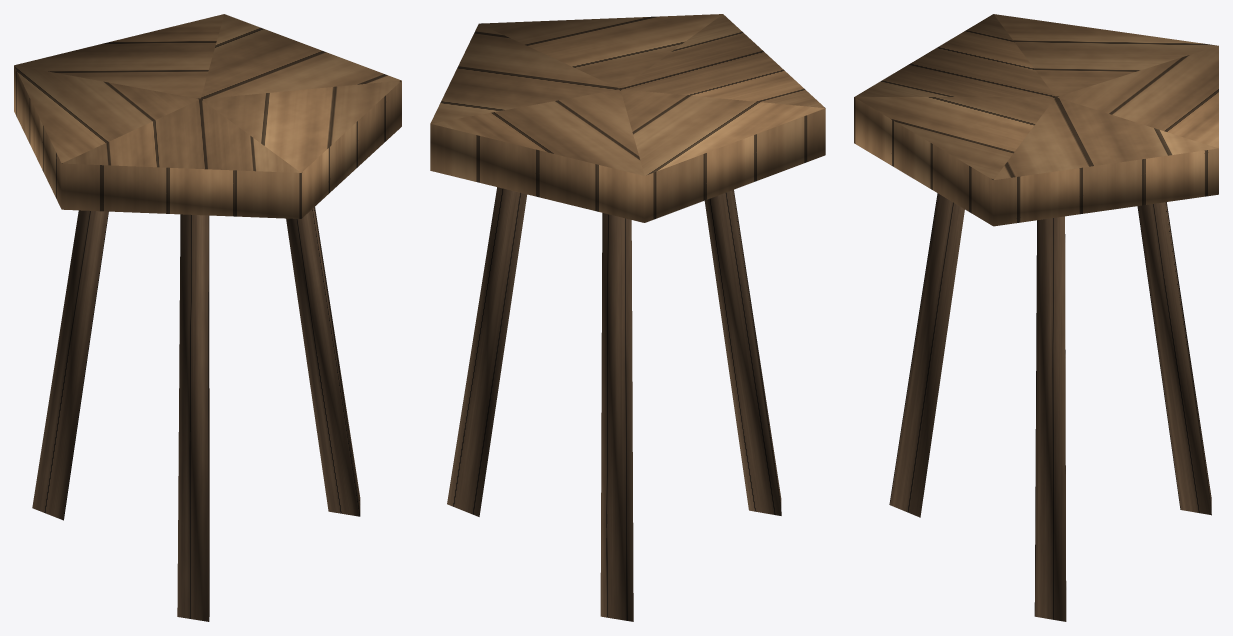
File: Stool_LOD2.gltf
3 renders of one model, left to right at view 1: azimuth 30°, elevation 25°; view 2: azimuth 150°, elevation 25°; view 3: azimuth 270°, elevation 25°, orthographic.
Visible parts, largest first — view 1: Stool_LOD2; view 2: Stool_LOD2; view 3: Stool_LOD2.
Part boxes in pixels (x1,y1,x2,y2): Stool_LOD2: (14,14,401,621); Stool_LOD2: (430,14,825,621); Stool_LOD2: (854,14,1218,621).
Size of the model in its own units: 0.4682 by 0.59 by 0.4342.
2 materials, 2 textured.
